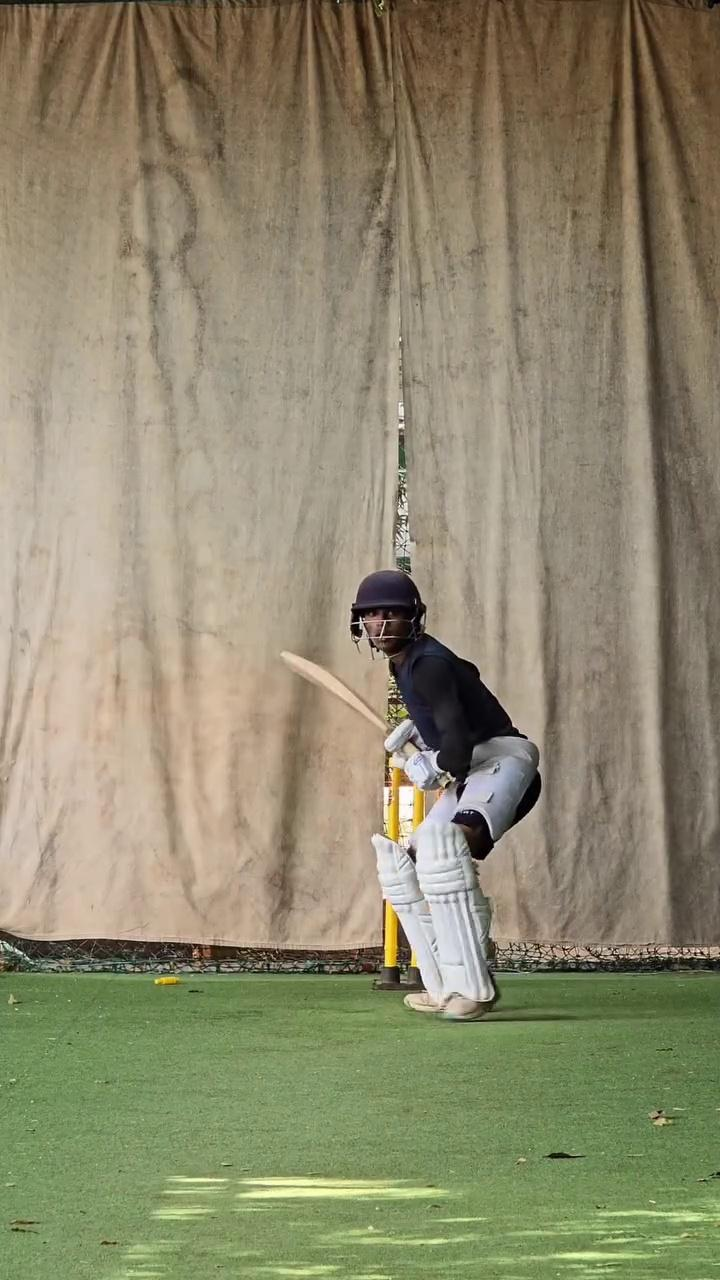bat: (277, 638, 396, 743)
